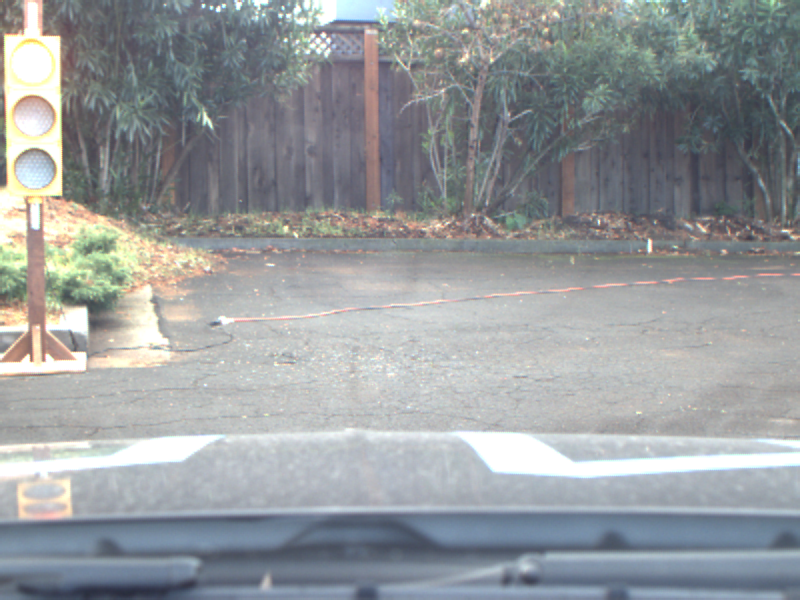Red: (3, 34, 64, 197)
